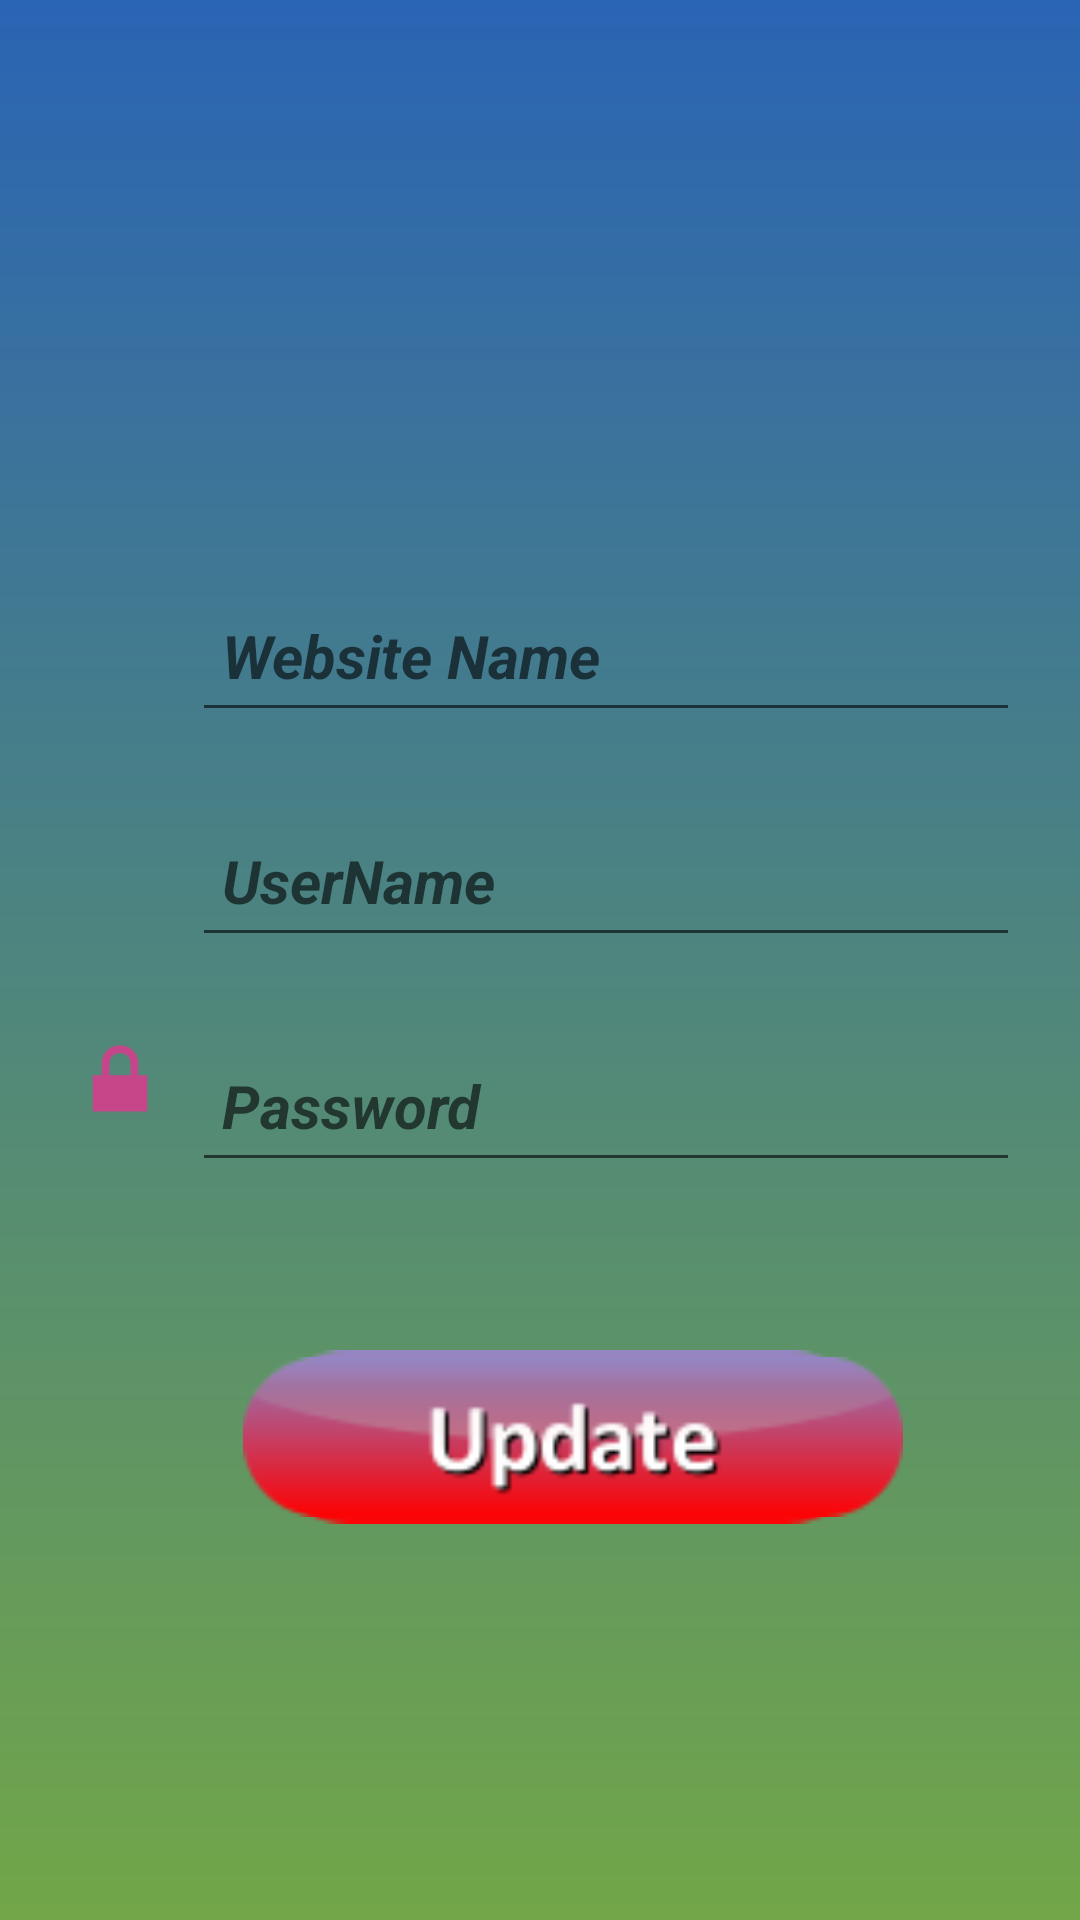

Where to tap for icons on this 1080 x 1920 app screen, as (x=x, y=y):
lock: (x=120, y=1078)
